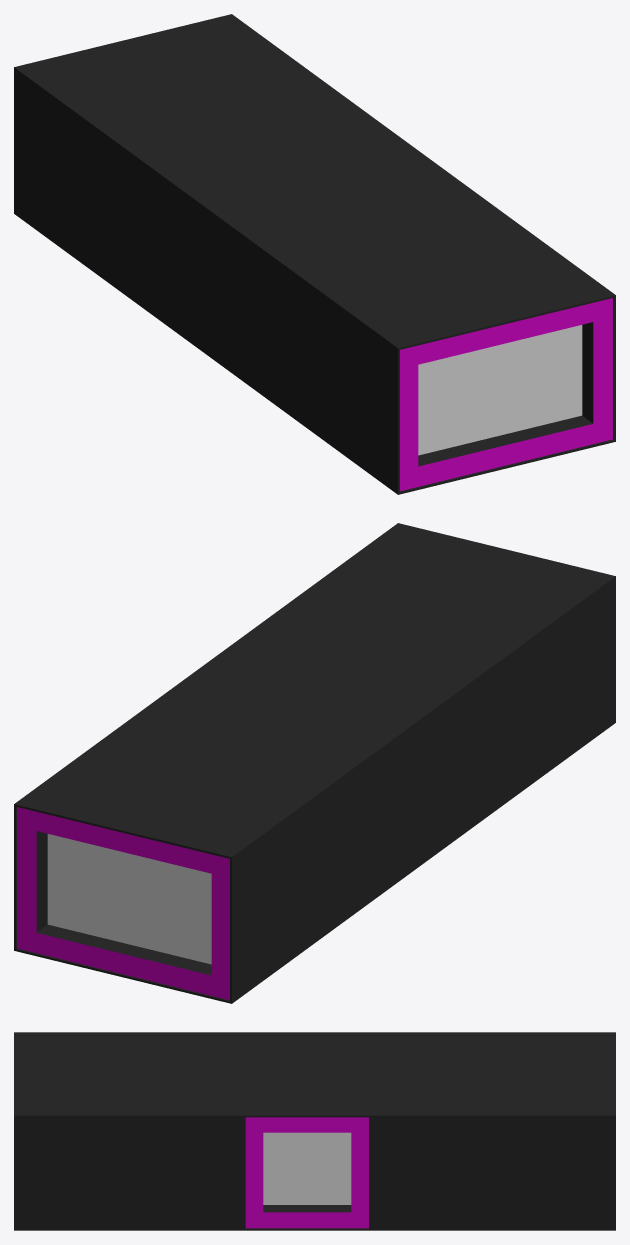
The model's file is body_back.dae.
3 renders of one model, top to bottom at view 1: azimuth 30°, elevation 25°; view 2: azimuth 150°, elevation 25°; view 3: azimuth 270°, elevation 25°, orthographic. The views are drawn at different scales.
Visible parts, largest first — view 1: back_body; view 2: back_body; view 3: back_body.
Boxes of the visible parts, x1=… form: back_body: x1=14, y1=14, x2=615, y2=494; back_body: x1=14, y1=523, x2=615, y2=1003; back_body: x1=14, y1=1032, x2=615, y2=1230.
Size of the model in its own units: 0.112 by 0.342 by 0.072.
